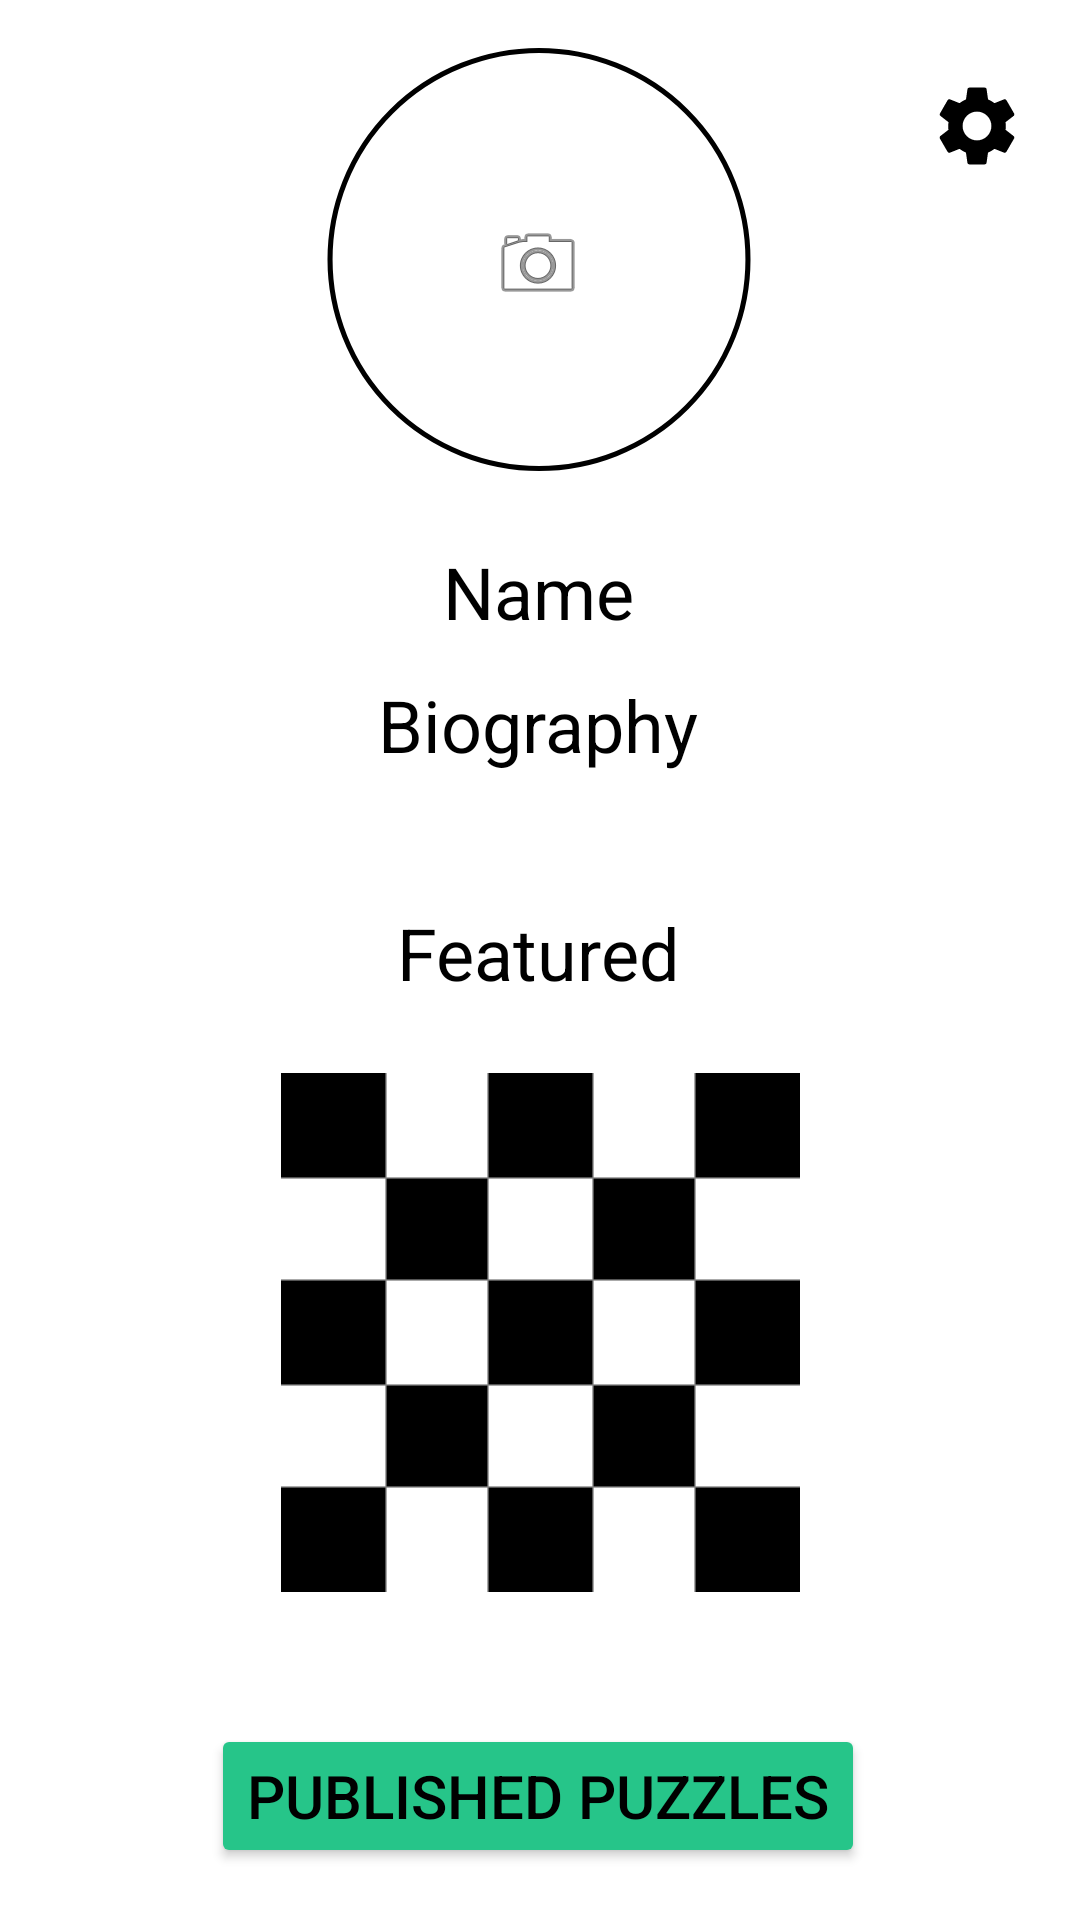

Screen size 1080px x 1920px. Icon name, then its box in pixels as box(x1, y1, x2, y2):
settings: box(939, 87, 1015, 165)
